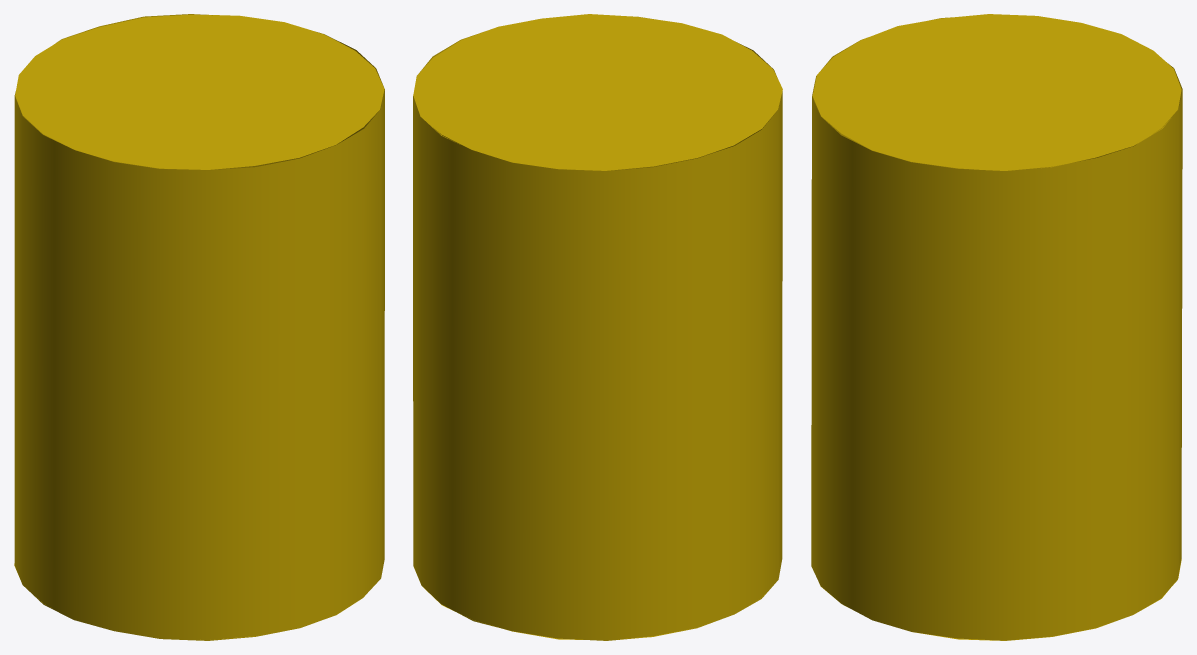
Rendered from original_12.obj.
3 renders of one model, left to right at view 1: azimuth 30°, elevation 25°; view 2: azimuth 150°, elevation 25°; view 3: azimuth 270°, elevation 25°, orthographic.
Parts seen in each view (by area): view 1: group_11/ID83#ID83; view 2: group_11/ID83#ID83; view 3: group_11/ID83#ID83.
Part boxes in pixels (x1,y1,x2,y2): group_11/ID83#ID83: [14, 14, 384, 640]; group_11/ID83#ID83: [413, 14, 782, 640]; group_11/ID83#ID83: [811, 14, 1182, 640].
Size of the model in its own units: 0.0708 by 0.0992 by 0.0708.
